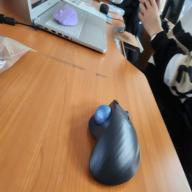mouse: (87, 98, 141, 187), (53, 6, 79, 28), (99, 3, 110, 16)
